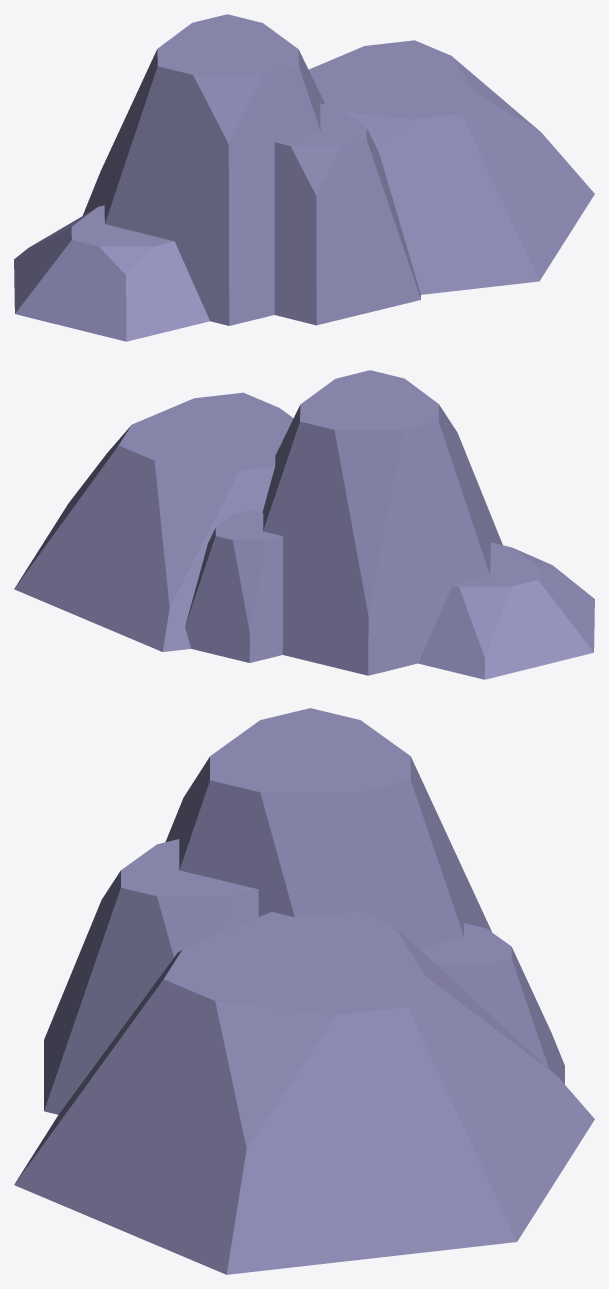
The model's file is Stone1.fbx.
3 views of the same model, one above another, from view 1: azimuth 30°, elevation 25°; view 2: azimuth 150°, elevation 25°; view 3: azimuth 270°, elevation 25° (orthographic). The views are drawn at different scales.
Visible parts, largest first — view 1: mergedBlocks; view 2: mergedBlocks; view 3: mergedBlocks.
Boxes of the visible parts, bbox=[...] form: mergedBlocks: bbox=[14, 14, 594, 341]; mergedBlocks: bbox=[14, 370, 594, 679]; mergedBlocks: bbox=[14, 708, 594, 1274].
Size of the model in its own units: 174 by 61 by 112.
